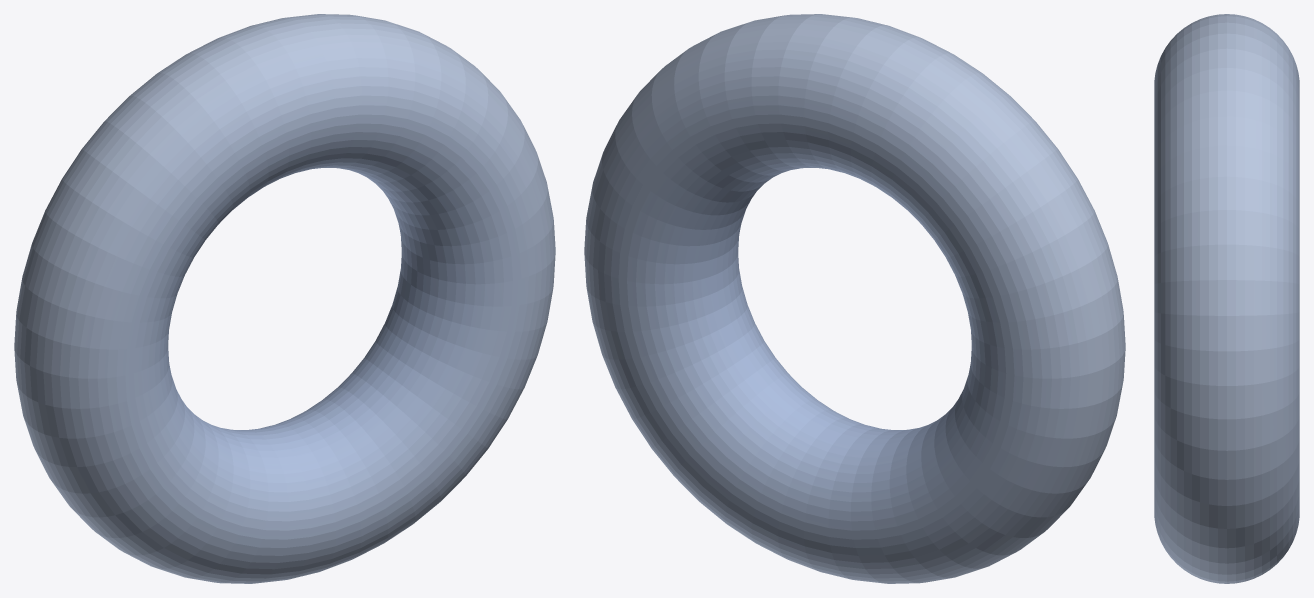
3 views of the same model, side by side, from view 1: azimuth 30°, elevation 25°; view 2: azimuth 150°, elevation 25°; view 3: azimuth 270°, elevation 25° (orthographic). The views are drawn at different scales.
Parts seen in each view (by area): view 1: world; view 2: world; view 3: world.
Boxes of the visible parts, left/top/right/bottom form: world: left=14, top=14, right=555, bottom=583; world: left=584, top=14, right=1125, bottom=583; world: left=1154, top=14, right=1299, bottom=583.
Bounding box in the file's own units: 22.4 × 22.36 × 5.72.
